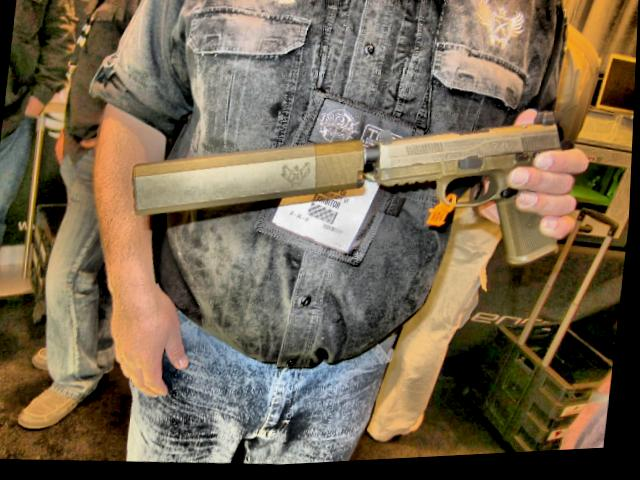pistol: (352, 90, 586, 287)
